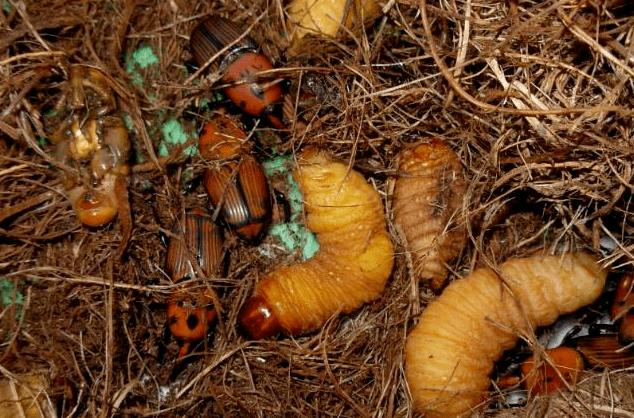Curculionidae: (185, 105, 290, 245), (180, 13, 297, 136), (160, 205, 230, 370)
